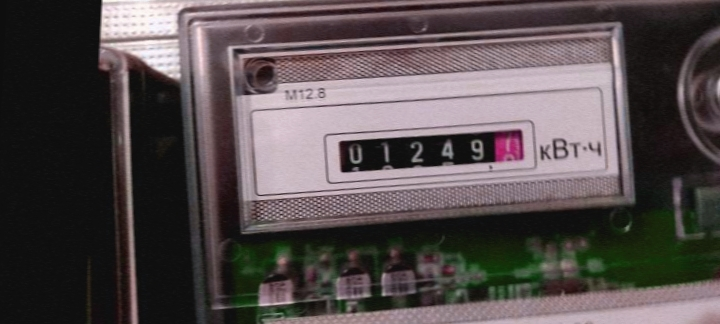0: (344, 140, 365, 167)
1: (376, 140, 393, 166)
2: (406, 140, 428, 167)
4: (439, 136, 458, 164)
7: (499, 131, 515, 156)
9: (468, 137, 487, 163)
screen: (315, 113, 552, 200)
